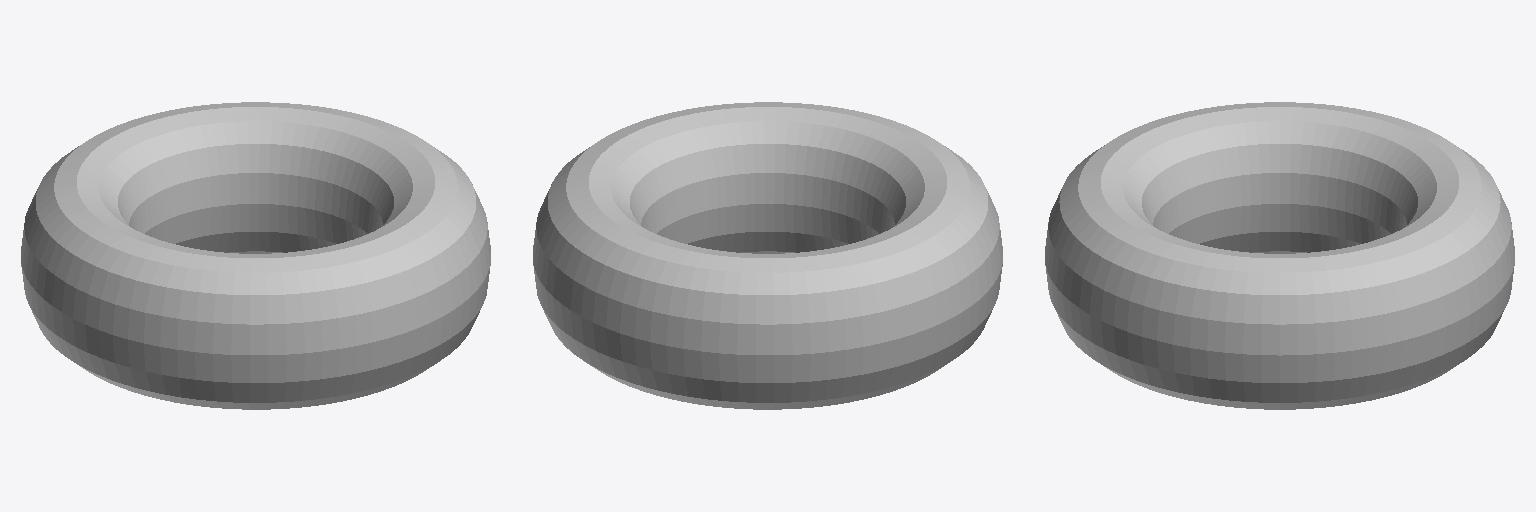
Rendered from Doughnut 2 15 min uv map.obj.
3 renders of one model, left to right at view 1: azimuth 30°, elevation 25°; view 2: azimuth 150°, elevation 25°; view 3: azimuth 270°, elevation 25°, orthographic.
Visible parts, largest first — view 1: pCylinder1; view 2: pCylinder1; view 3: pCylinder1.
Boxes of the visible parts, box(x1,y1,x2,y2) form: pCylinder1: box(21, 102, 490, 409); pCylinder1: box(533, 102, 1002, 409); pCylinder1: box(1045, 102, 1514, 409).
Size of the model in its own units: 8.09 by 2.78 by 8.09.